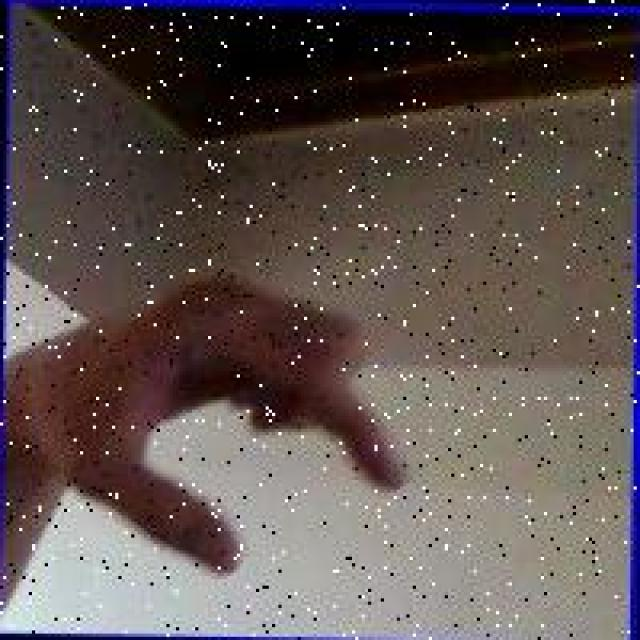Q: (50, 264, 418, 581)
